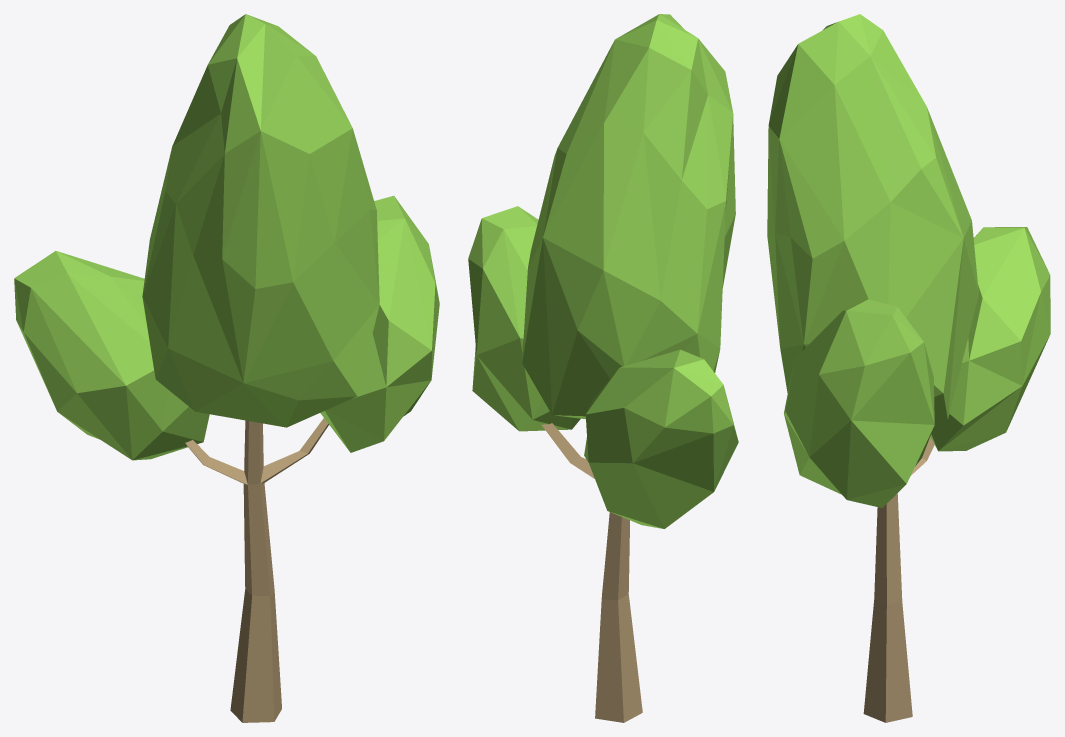
File: Random_Tree_m_BT_05.fbx
3 renders of one model, left to right at view 1: azimuth 30°, elevation 25°; view 2: azimuth 150°, elevation 25°; view 3: azimuth 270°, elevation 25°, orthographic. The views are drawn at different scales.
Parts seen in each view (by area): view 1: Random_Tree_m_BT_05; view 2: Random_Tree_m_BT_05; view 3: Random_Tree_m_BT_05.
Boxes of the visible parts, x1,y1,x2,y2 form: Random_Tree_m_BT_05: [14, 14, 439, 722]; Random_Tree_m_BT_05: [468, 14, 738, 722]; Random_Tree_m_BT_05: [767, 14, 1050, 722].
Size of the model in its own units: 497 by 999 by 374.
